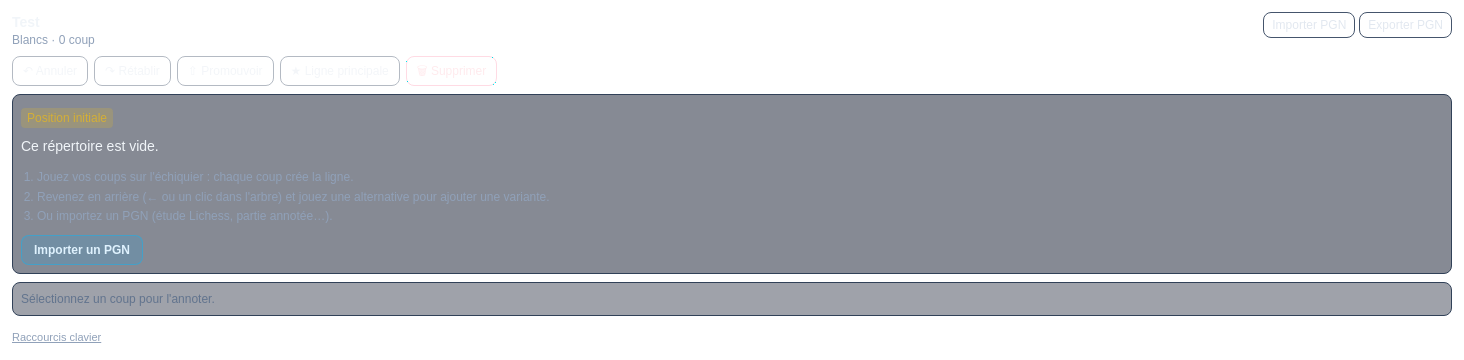
Test case: éditeur : état vide, aide, limites › accueille un répertoire vide avec des conseils et un accès direct à l'import
Expected: the text "Ce répertoire est vide." is shown, [21, 138, 159, 154]
Click the button "Importer un PGN" at (82, 250), box [21, 234, 143, 264]
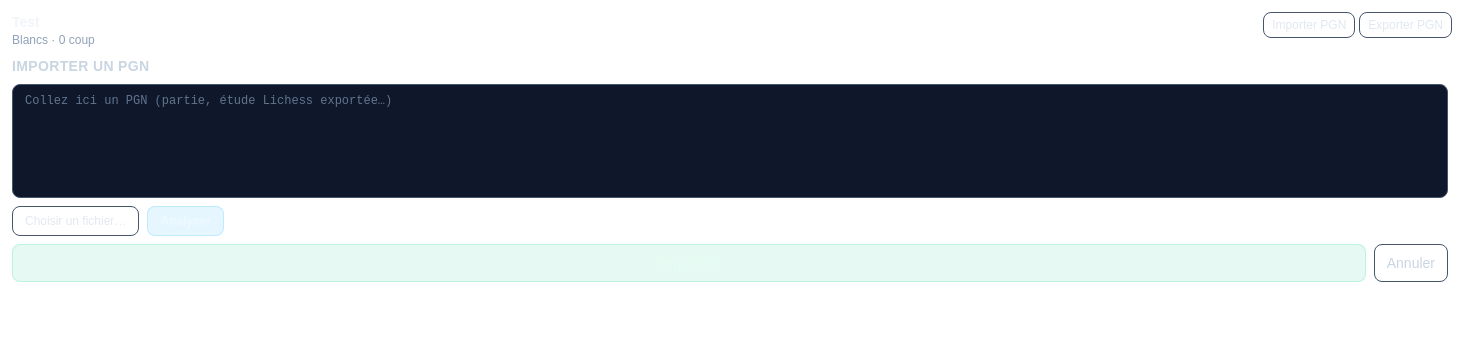
Expected: the text box named "Texte PGN" is shown, [12, 84, 1448, 198]
